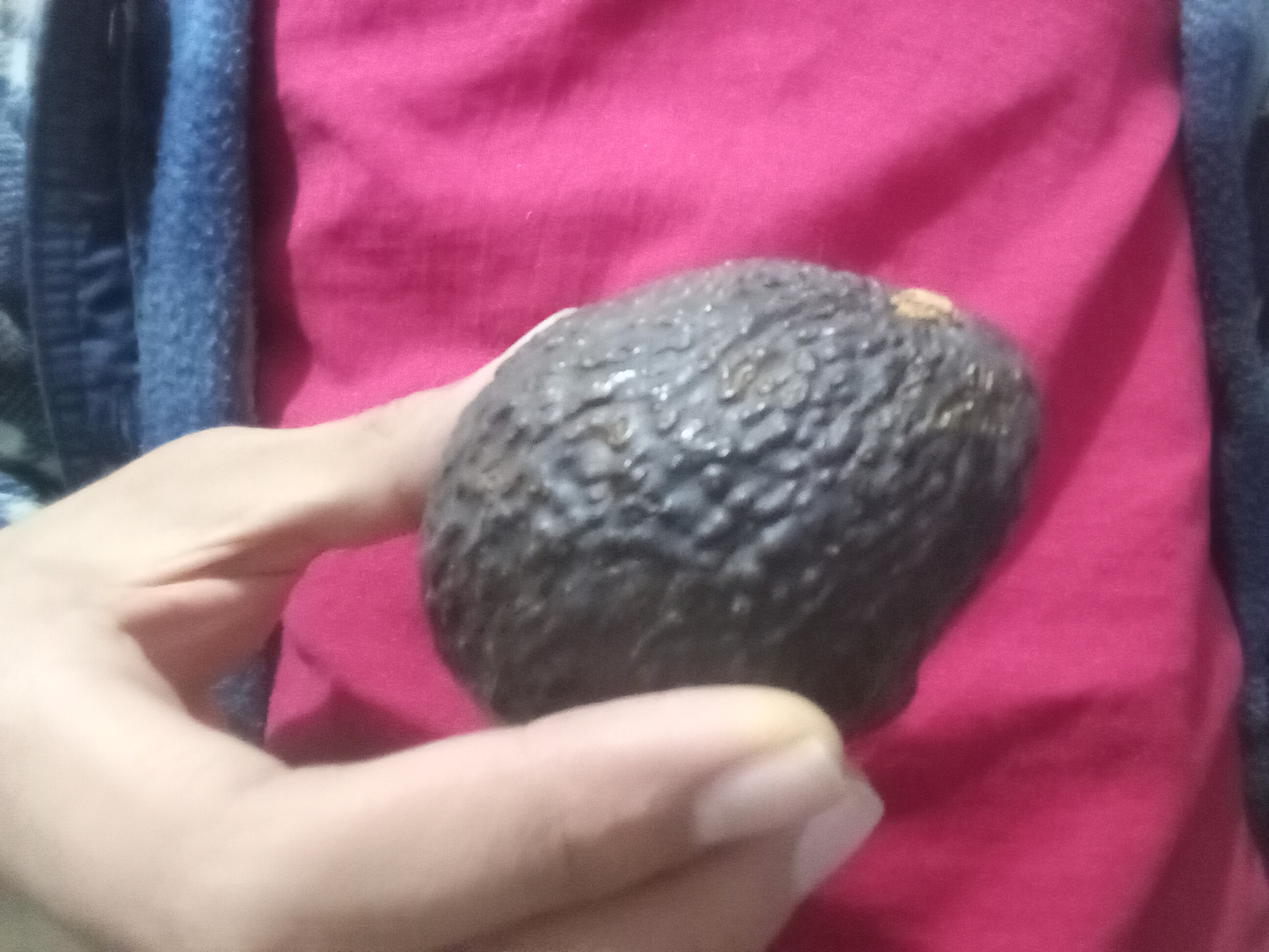Organico: (421, 258, 1043, 726)
